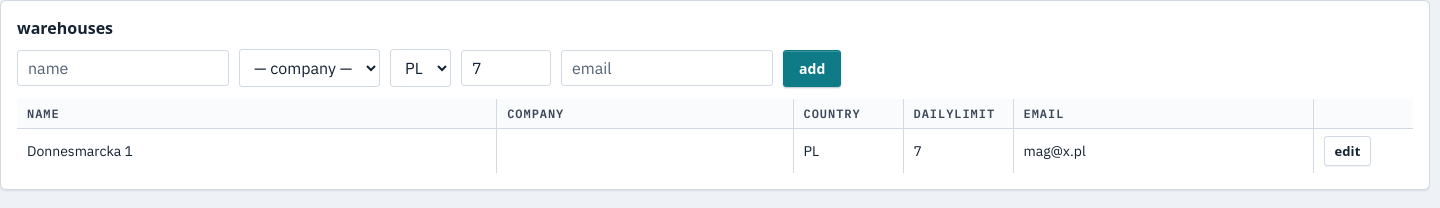
WarehousesTab › „Anuluj" przy dodawaniu pojawia się po wpisaniu i czyści formularz
The image size is (1440, 208).
Check: the button "edit" is shown, box [1324, 136, 1371, 166]
Check: the text "cancel" is not shown
In the field with placeholder "name": (123,68) [17, 50, 229, 86], type "Nowy"
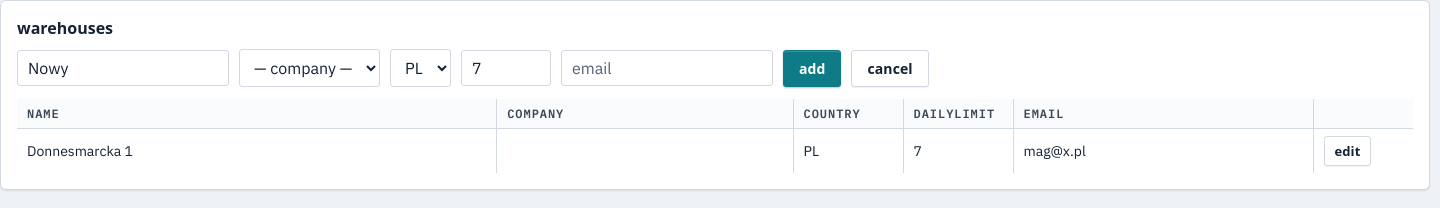
Click the button "cancel": (890,68) [852, 50, 929, 86]
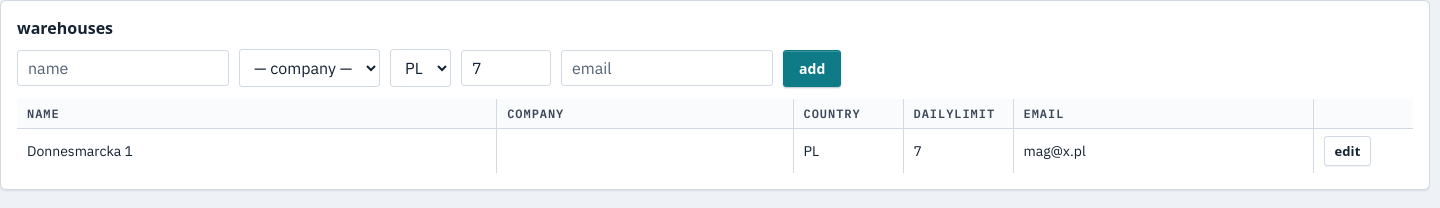
Check: the field with placeholder "name" is empty, box [17, 50, 229, 86]
Check: the button "cancel" is gone
